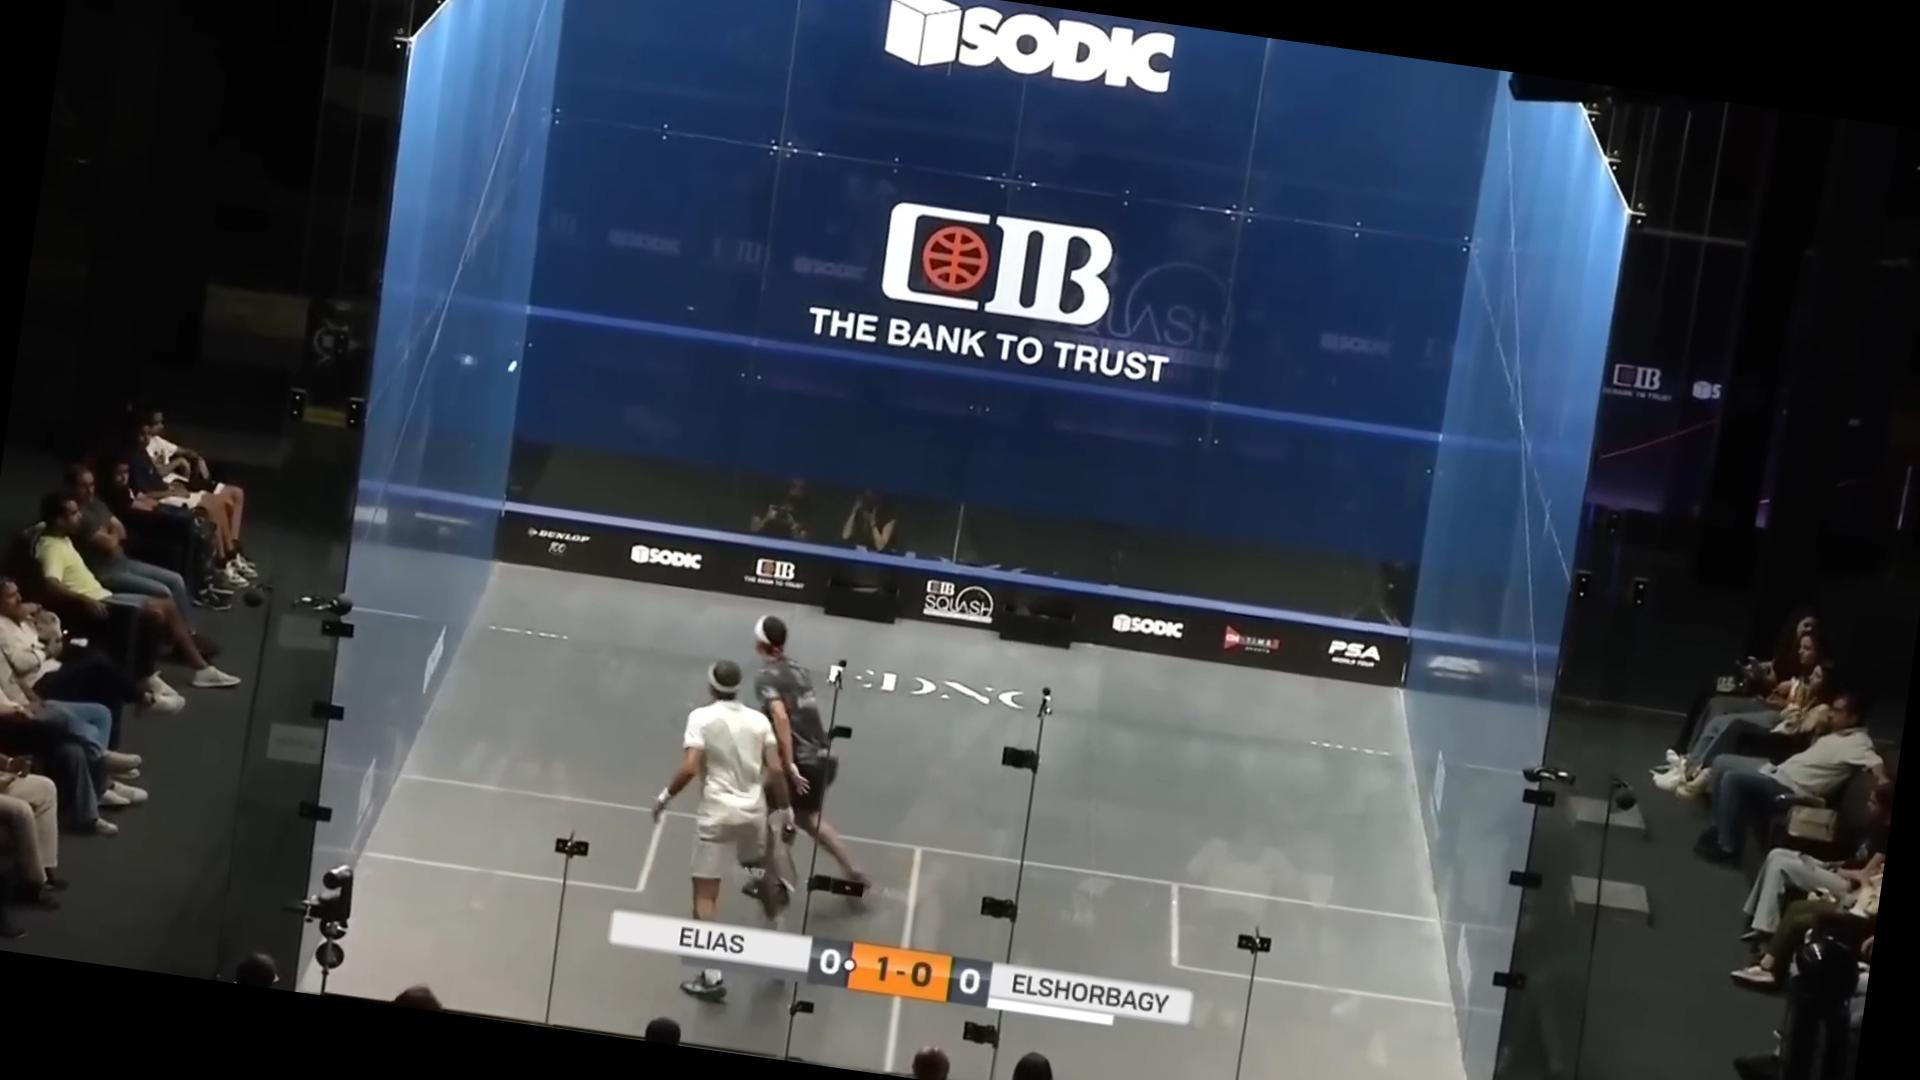Squash-Ball: (496, 347, 527, 389)
